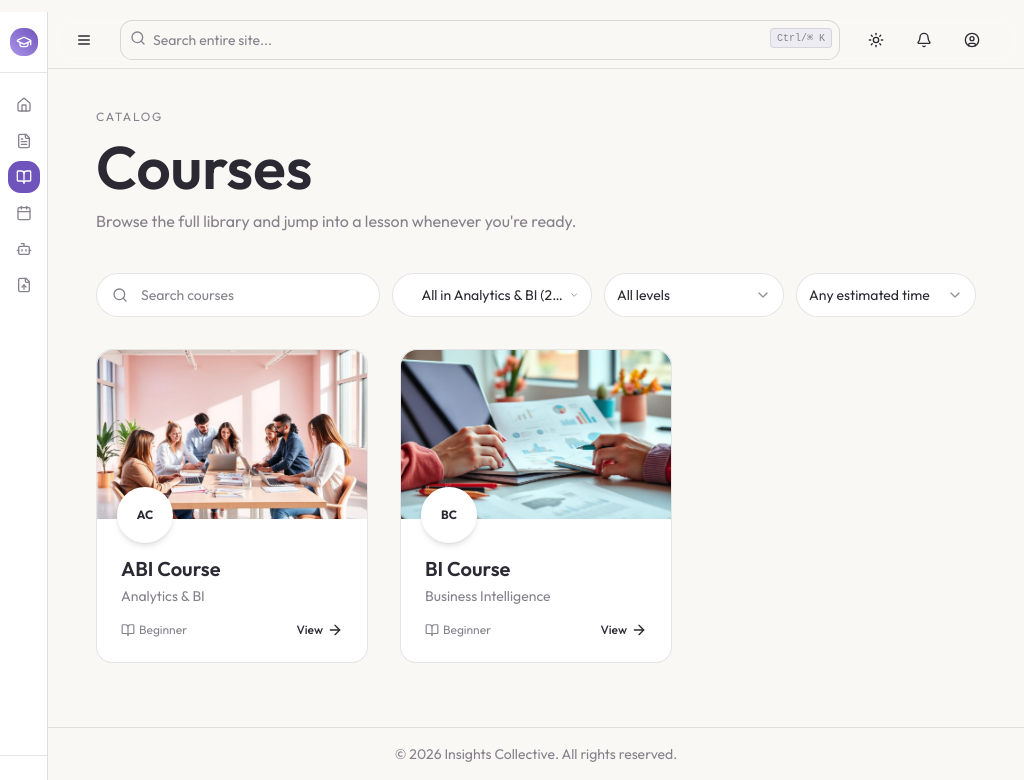
Test: category menu names are unique after whitespace normalization › with the group entry active: exact computed names for leading/trailing/repeated spaces, tabs and newlines
Step 1. Click the dropdown named "Category" → (492, 295), box [392,273,592,317]
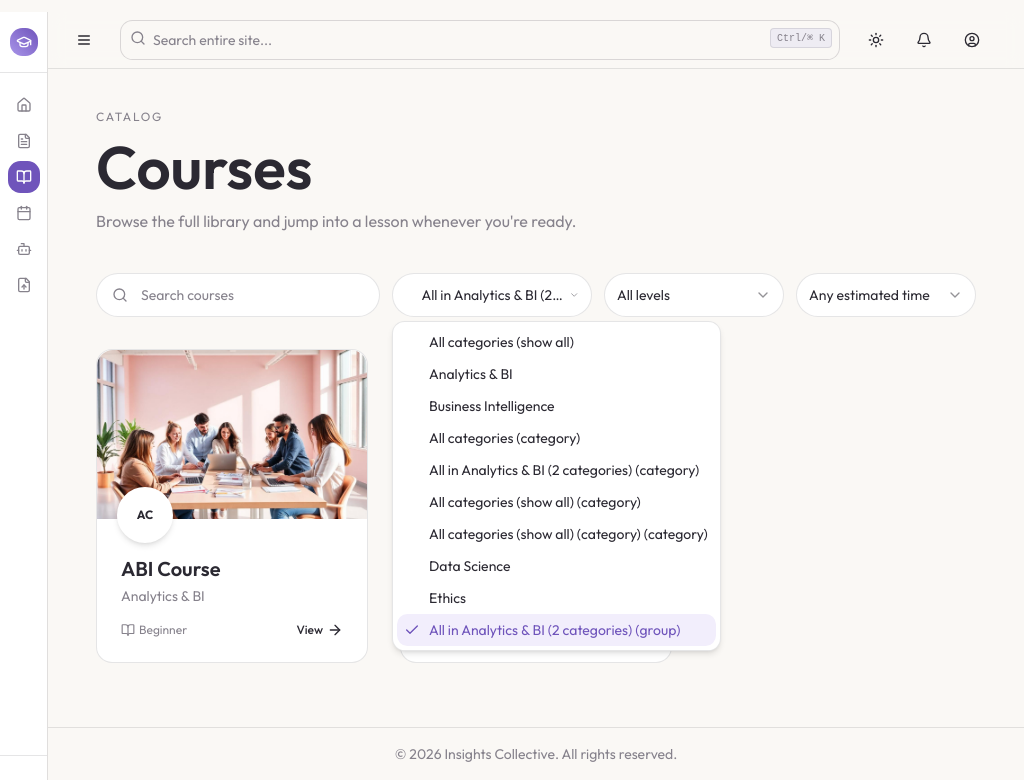
Expected: the text "All categories (show all)" is shown, [429,332,574,352]
Expected: the number of options "All categories (show all)" is 1, [429,333,574,351]
Expected: the number of options "Analytics & BI" is 1, [429,365,513,383]
